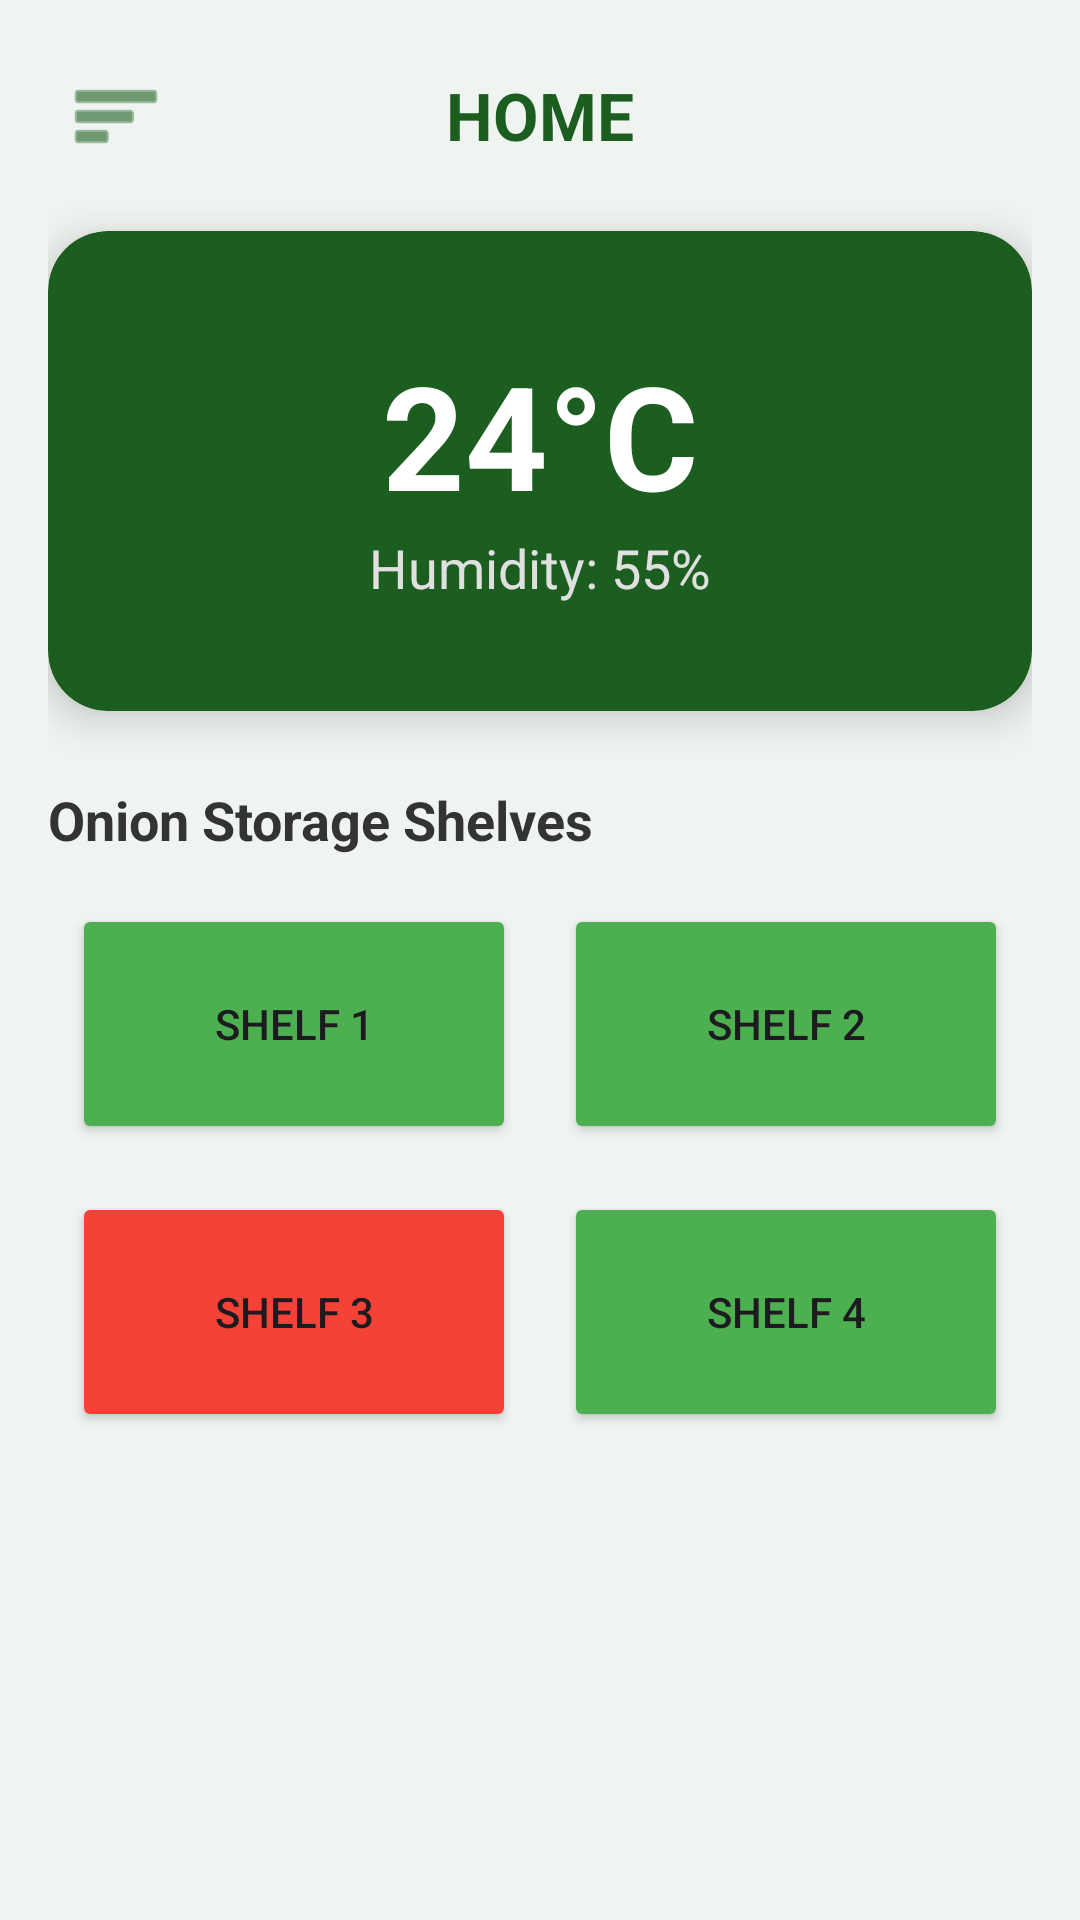

Where icons sit on this 1080x1920 app screen, as (x1, y1, x2, y2):
sort by size: (75, 90, 157, 143)
